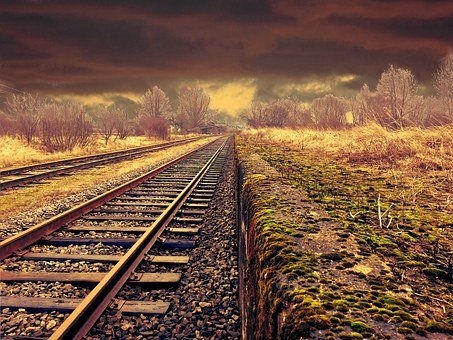field: (244, 117, 453, 337)
sky: (9, 4, 451, 84)
tree: (3, 90, 450, 131)
